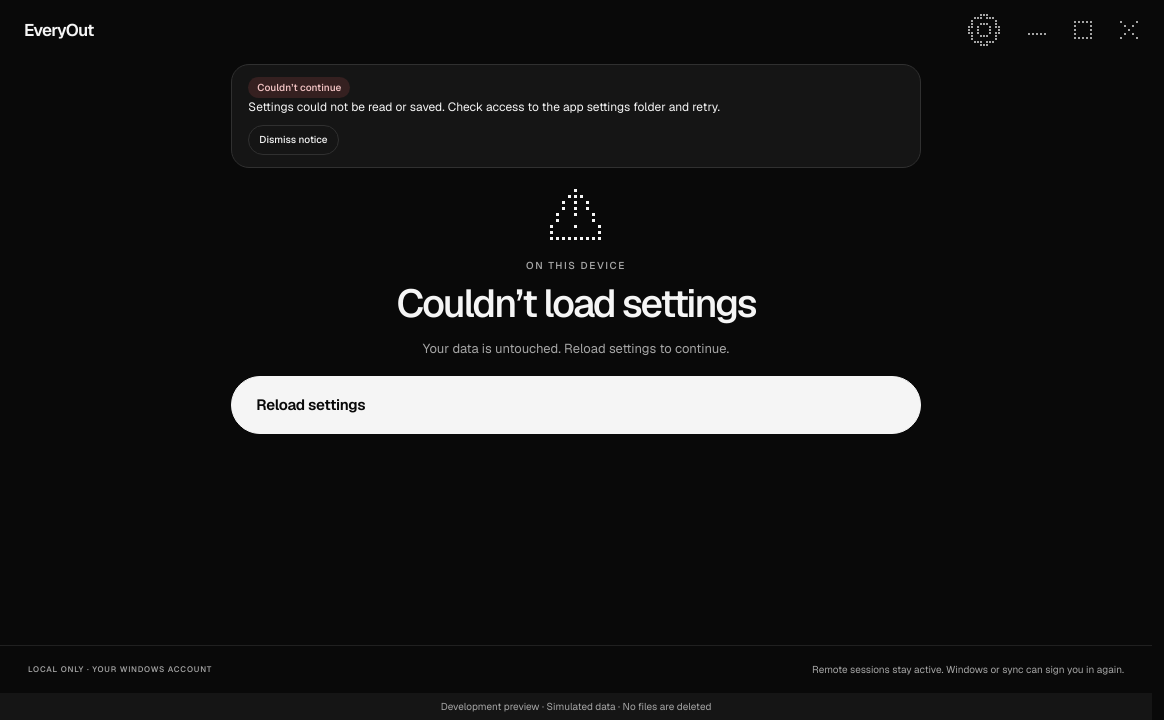
offers a safe retry after loading settings fails
Expected: the message shows "Settings could not be read or saved. Check access to the app settings folder and retry.", 248,99 -> 720,115
Click the button "Reload settings": [311, 405] box 231,376 -> 921,434
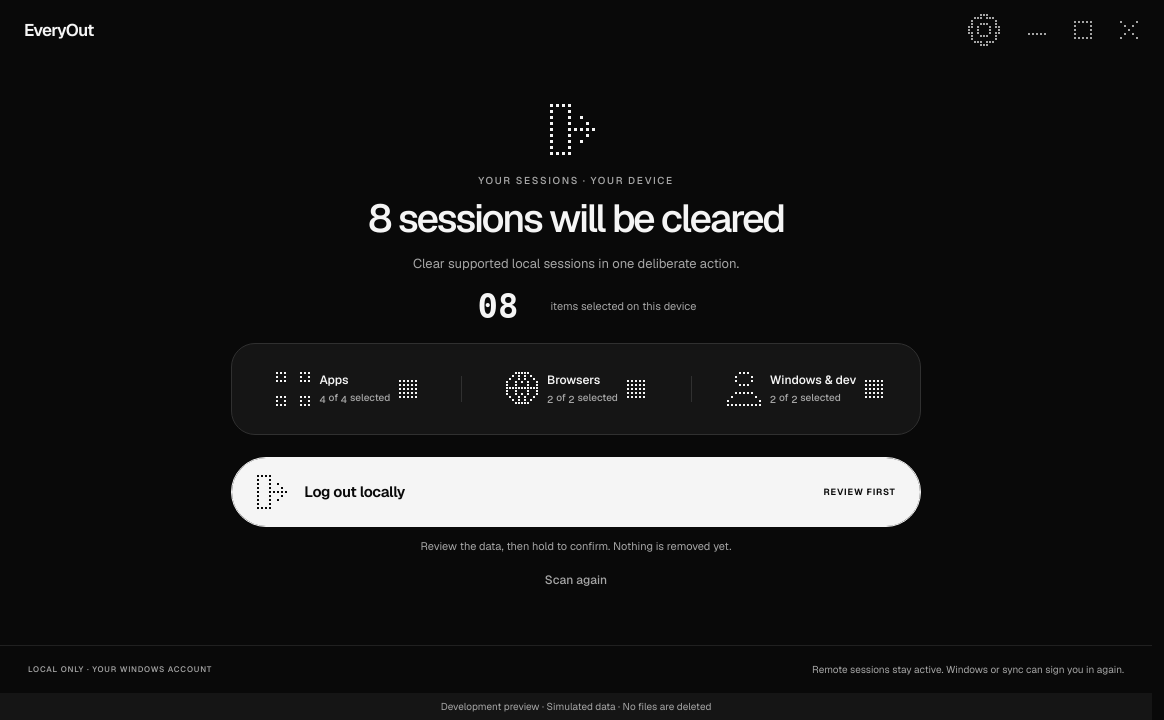
Result: the button "Log out locally REVIEW FIRST" is shown at 231,457 -> 921,527
